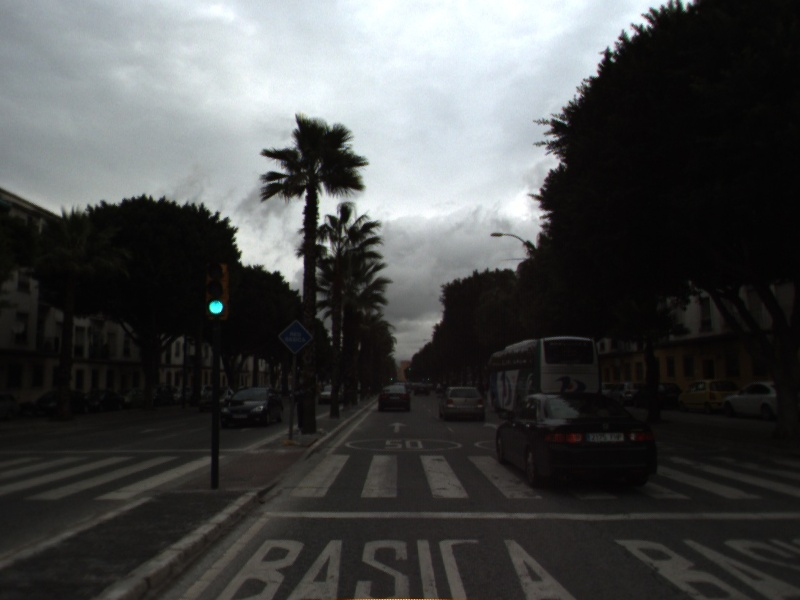STRAIGHT: (386, 420, 409, 435)
